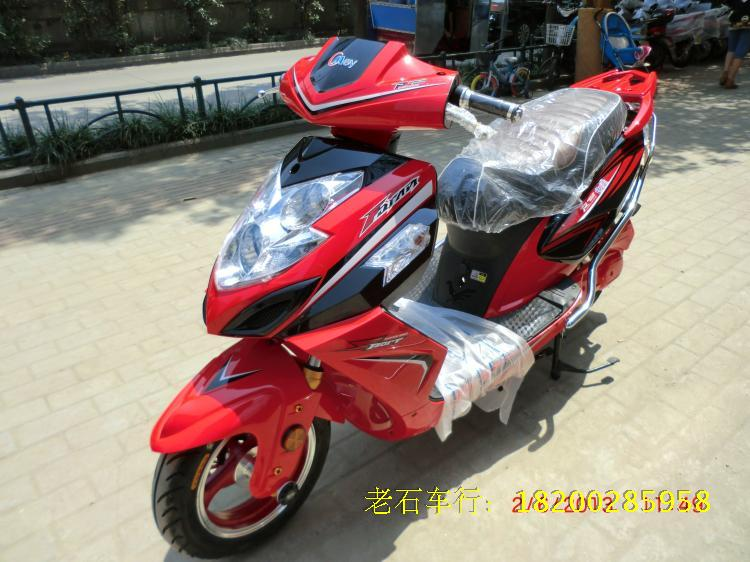电动车: (129, 6, 669, 554)
